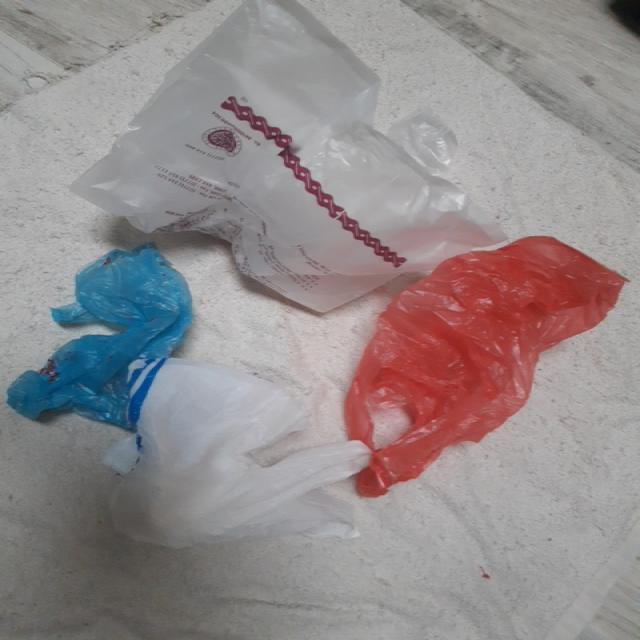Single-layer Plastic: (72, 0, 504, 312), (345, 236, 624, 497), (108, 359, 370, 547), (8, 245, 191, 428)
